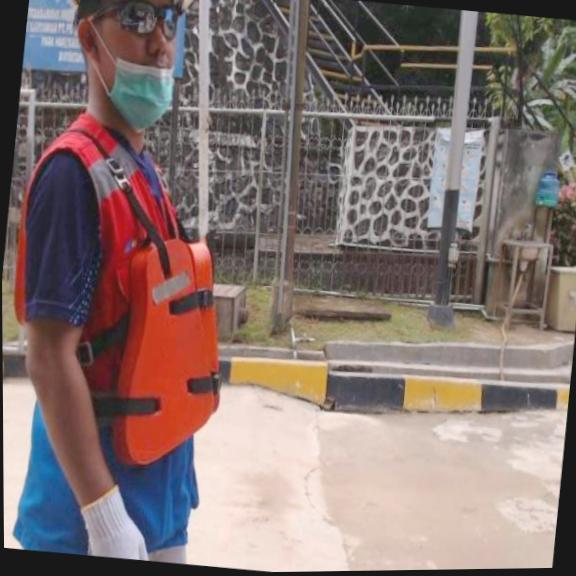safety_vest: (109, 227, 248, 469)
